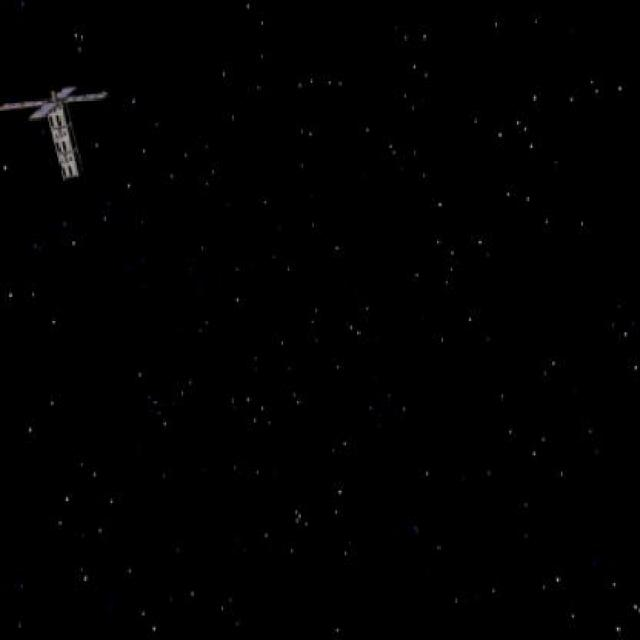medium_debris: (0, 77, 117, 181)
